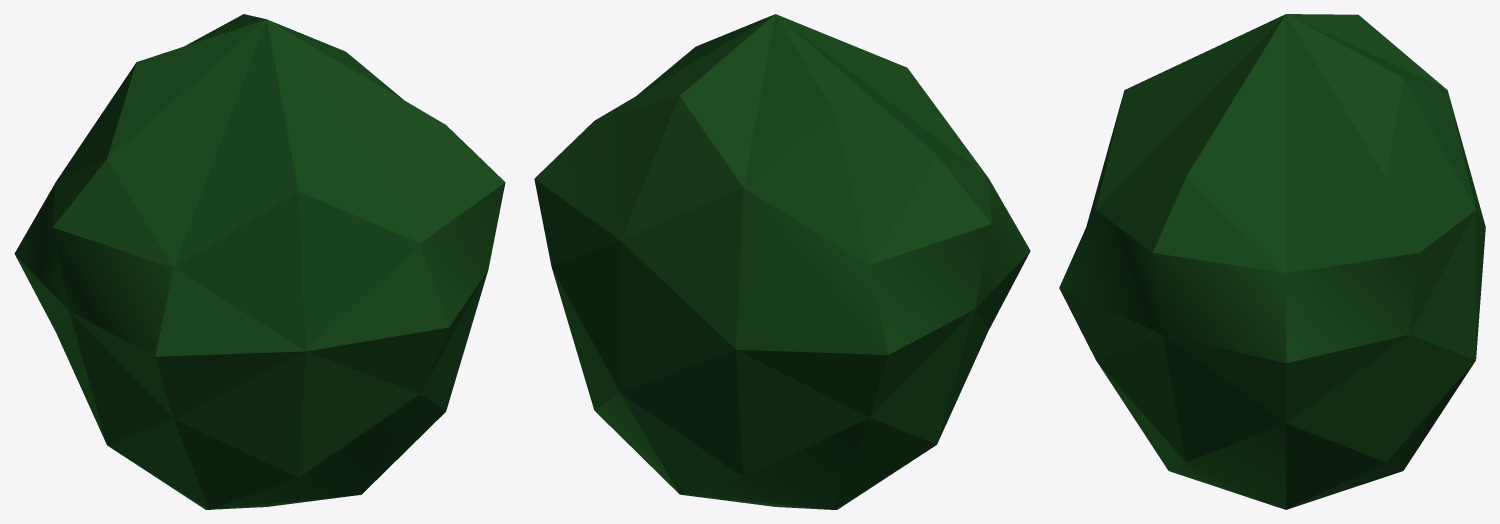
Rendered from GreenBush_v1.fbx.
3 views of the same model, side by side, from view 1: azimuth 30°, elevation 25°; view 2: azimuth 150°, elevation 25°; view 3: azimuth 270°, elevation 25° (orthographic).
Parts seen in each view (by area): view 1: pSphere13; view 2: pSphere13; view 3: pSphere13.
Boxes of the visible parts, x1,y1,x2,y2 form: pSphere13: (14,14,505,509); pSphere13: (534,14,1030,509); pSphere13: (1059,14,1485,509).
Size of the model in its own units: 0.0701 by 0.0747 by 0.0595.
